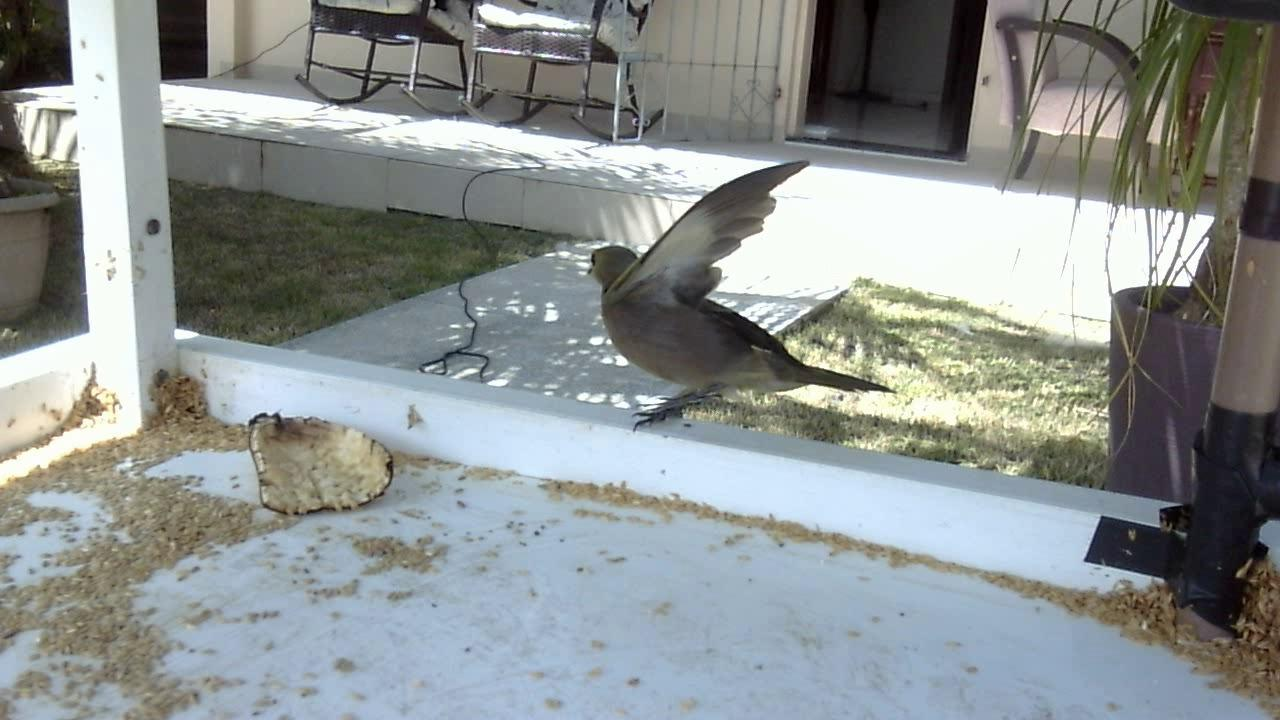sanhaco_do_coqueiro: (576, 157, 896, 437)
